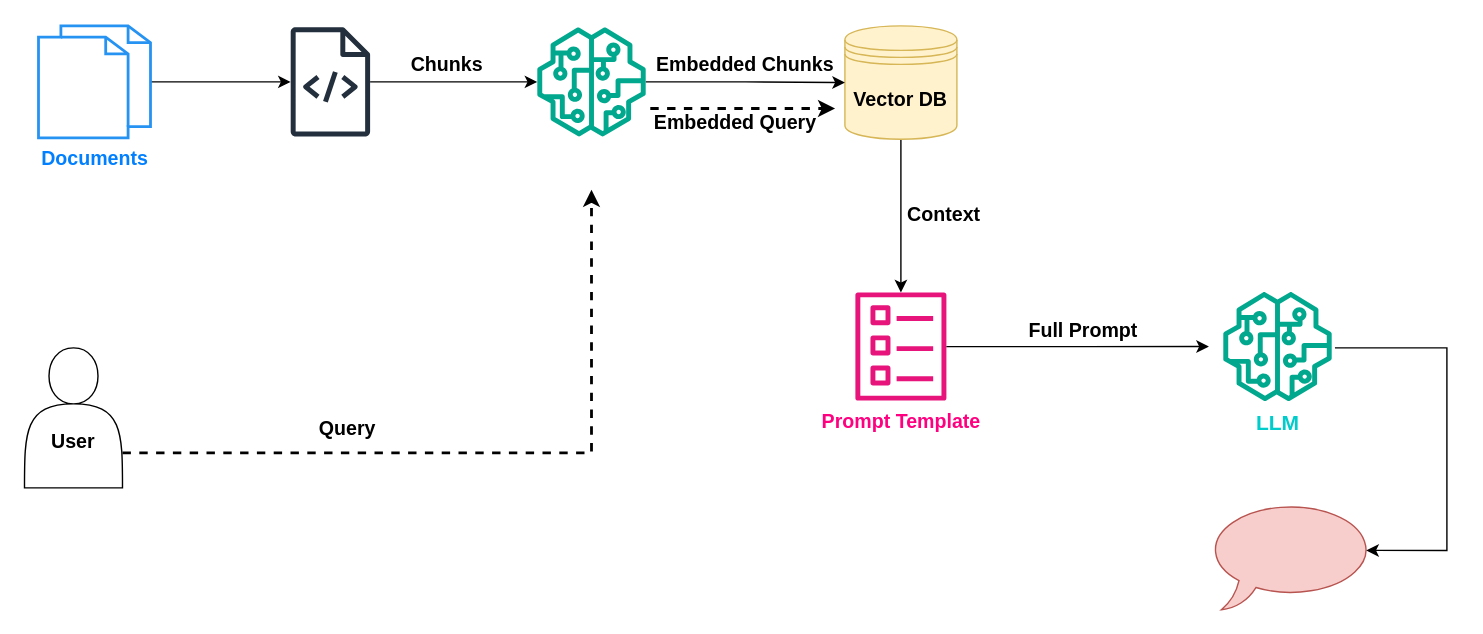
The diagram is 1483 pixels wide and 634 high, and some of its shapes have lost their labels. Each missing label, with the box of its shape:
Embedding Model: (536, 27, 645, 136)
Parser: (290, 27, 370, 136)
Response: (1206, 500, 1376, 610)
